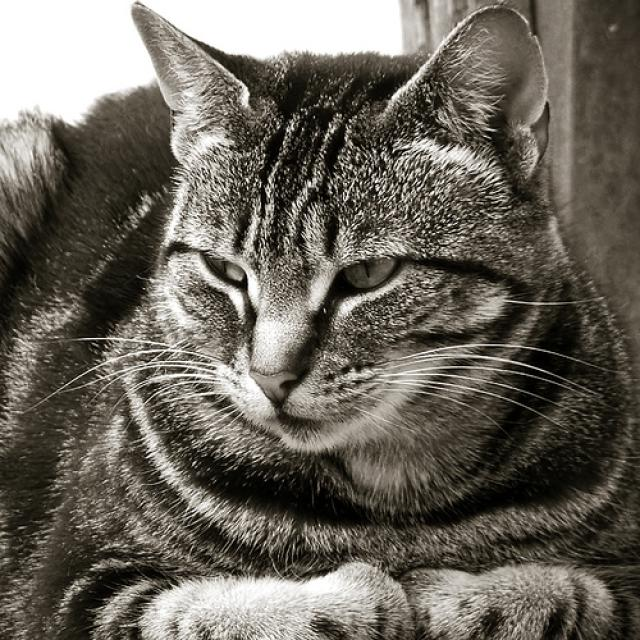cat: (1, 1, 640, 640)
